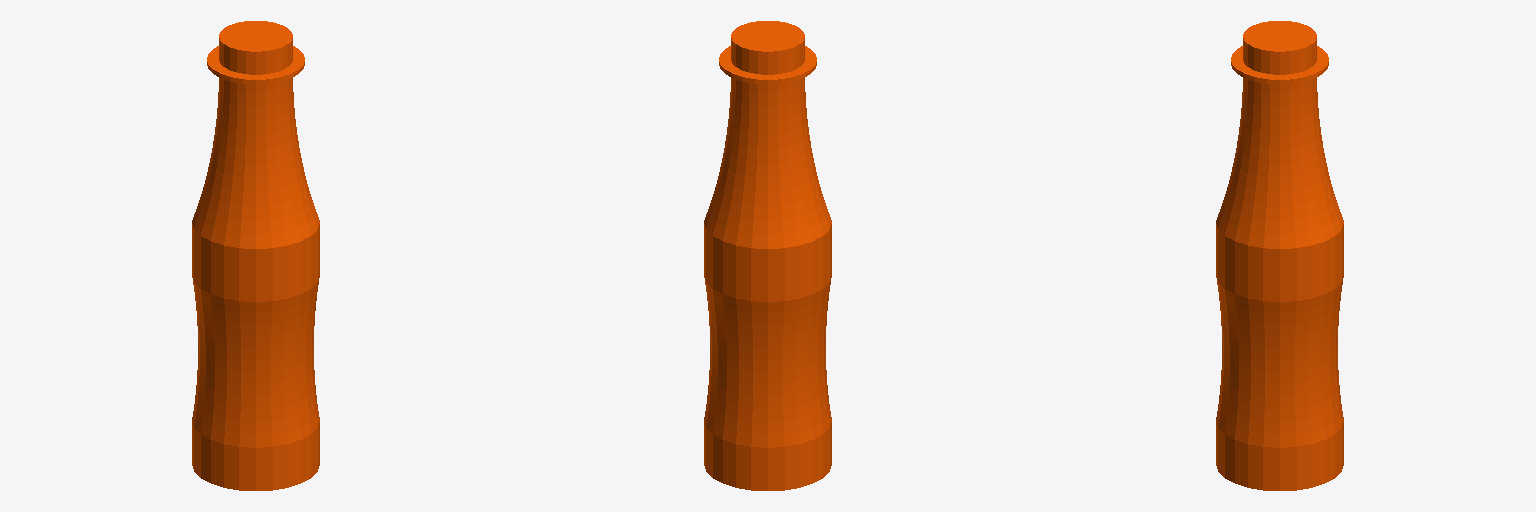
robot.urdf — Bottle_c5eb3234b73037562825656dc457df78:
<?xml version="1.0" ?>
<robot name="Bottle_c5eb3234b73037562825656dc457df78">
   <material name="obj_color">
      <color rgba="1.0 0.423529411765 0.0392156862745 1.0"/>
   </material>
   <link name="top">
      <inertial>
         <origin rpy="2.949851947194361e-05 0.0002778289978068812 0.0002778294556856177" xyz="7.000000000000101e-06 9.737007717903973e-06 -0.004715935386439115"/>
         <mass value="0.1613126205539012"/>
         <inertia ixx="0.0002778294556856177" ixy="2.984551420808571e-22" ixz="1.9925520798438e-21" iyy="0.0002778289978065893" iyz="-2.692204806274817e-10" izz="2.949851947223549e-05"/>
      </inertial>
      <visual>
         <origin rpy="0 0 0" xyz="0 0 0"/>
         <geometry>
            <mesh filename="top_watertight_tiny.stl" scale="1 1 1"/>
         </geometry>
         <material name="obj_color"/>
      </visual>
      <collision>
         <origin rpy="0 0 0" xyz="0 0 0"/>
         <geometry>
            <mesh filename="top_watertight_tiny.obj" scale="1 1 1"/>
         </geometry>
      </collision>
   </link>
   <link name="bottom">
      <inertial>
         <origin rpy="1.633333333199431e-08 1.633333333199431e-08 1.633333333362855e-08" xyz="0.3464080000000008 0.3464080000000008 0.3464080000000008"/>
         <mass value="0.0009800000000000017"/>
         <inertia ixx="1.633333333253906e-08" ixy="5.447480642029219e-19" ixz="5.447480642029219e-19" iyy="1.633333333253906e-08" iyz="5.447480642029219e-19" izz="1.633333333253906e-08"/>
      </inertial>
      <visual>
         <origin rpy="0 0 0" xyz="0 0 0"/>
         <geometry>
            <mesh filename="bottom_watertight_tiny.stl" scale="1 1 1"/>
         </geometry>
         <material name="obj_color"/>
      </visual>
   </link>
   <joint name="rotation" type="revolute">
      <origin xyz="0 0 0"/>
      <axis xyz="0 0 -1"/>
      <parent link="bottom"/>
      <child link="top"/>
      <dynamics damping="1.0" friction="1.0"/>
      <limit effort="0.1" velocity="0.1" lower="0" upper="0.001"/>
   </joint>
</robot>

--- Render facts (derived) ---
3 views of the same robot in one strip: view 1: azimuth 30°, elevation 25°; view 2: azimuth 150°, elevation 25°; view 3: azimuth 270°, elevation 25° (orthographic).
Model Bottle_c5eb3234b73037562825656dc457df78 with 2 links and 1 joints (1 revolute), rooted at bottom, posed all joints at 0.
Links seen in each view (by area): view 1: top; view 2: top; view 3: top.
Boxes of the visible links, left/top/right/bottom form: top: left=192, top=21, right=319, bottom=490; top: left=704, top=21, right=831, bottom=490; top: left=1216, top=21, right=1343, bottom=490.
Bounding box of the posed robot: 0.0401 × 0.0401 × 0.148 m (x, y, z).
1 mesh visuals loaded from 2 distinct referenced files (1 binary STL); not drawn: 1 (reference not matched to a file when rendering).
